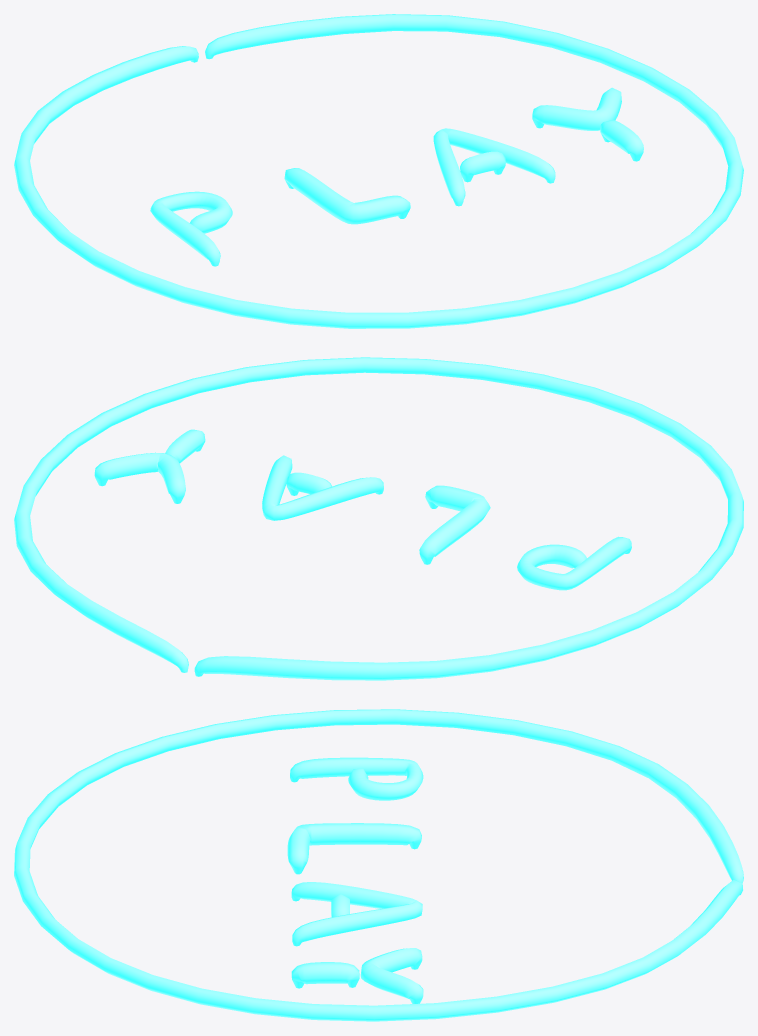
File: Arcade3neon.fbx
The picture shows the model from 3 angles, top to bottom: view 1: azimuth 30°, elevation 25°; view 2: azimuth 150°, elevation 25°; view 3: azimuth 270°, elevation 25°; orthographic projection.
Visible parts, largest first — view 1: neon_circle, neon_letter_a, neon_letter_p, neon_letter_y, neon_letter_l; view 2: neon_circle, neon_letter_a, neon_letter_p, neon_letter_y, neon_letter_l; view 3: neon_circle, neon_letter_a, neon_letter_p, neon_letter_y, neon_letter_l.
Boxes of the visible parts, x1,y1,x2,y2 form: neon_circle: (14,14,743,328); neon_letter_a: (433,128,555,206); neon_letter_p: (150,191,232,266); neon_letter_y: (532,87,643,161); neon_letter_l: (284,168,410,224); neon_circle: (14,357,743,680); neon_letter_a: (262,455,383,520); neon_letter_p: (517,536,631,590); neon_letter_y: (94,429,205,503); neon_letter_l: (419,485,490,564); neon_circle: (14,709,743,1021); neon_letter_a: (291,882,422,946); neon_letter_p: (290,757,423,800); neon_letter_y: (291,948,423,1003); neon_letter_l: (287,823,421,874).
Bounding box in the file's own units: 469 × 22.89 × 477.
